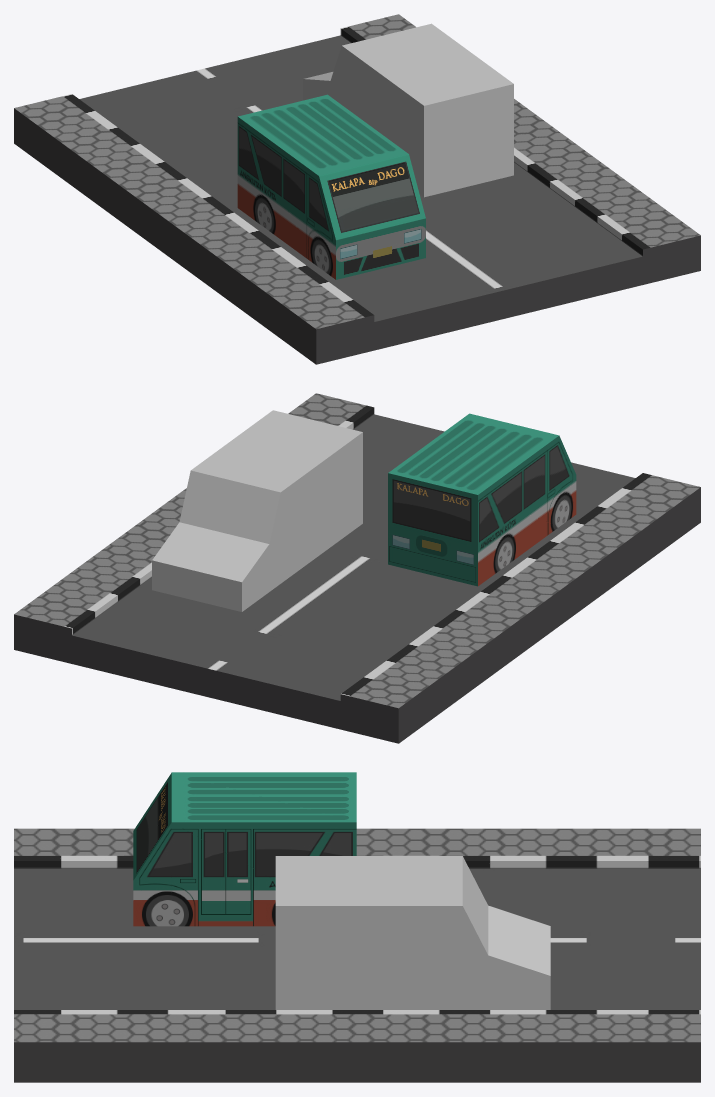
Rendered from angkot lowpoly.fbx.
The picture shows the model from 3 angles, top to bottom: view 1: azimuth 30°, elevation 25°; view 2: azimuth 150°, elevation 25°; view 3: azimuth 270°, elevation 25°; orthographic projection. The views are drawn at different scales.
Parts seen in each view (by area): view 1: Plane, Cube, Cube.001; view 2: Plane, Cube.001, Cube; view 3: Plane, Cube.001, Cube.
Part boxes in pixels (box(x1,y1,x2,y2)): Plane: box(14, 14, 700, 364); Cube: box(237, 94, 425, 279); Cube.001: box(303, 23, 513, 197); Plane: box(14, 393, 700, 743); Cube.001: box(152, 410, 362, 611); Cube: box(388, 413, 576, 586); Plane: box(14, 828, 700, 1082); Cube.001: box(275, 856, 550, 1009); Cube: box(133, 772, 356, 926).
Size of the model in its own units: 1413 by 422 by 1922.
